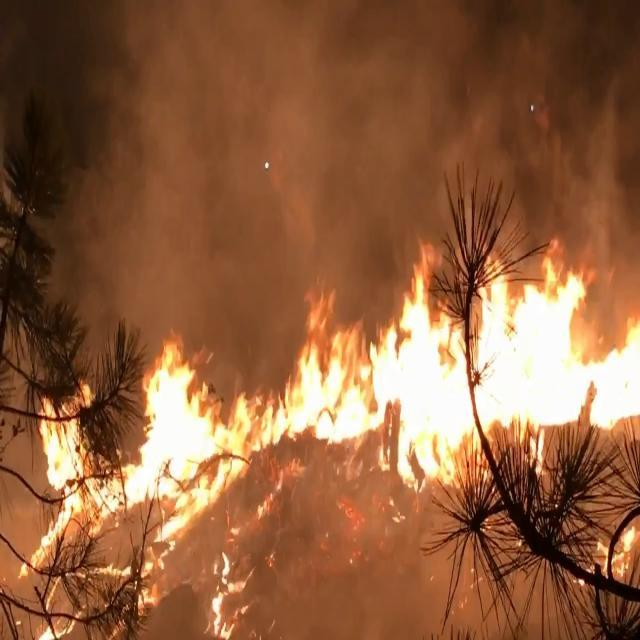Fire: (33, 223, 640, 640)
